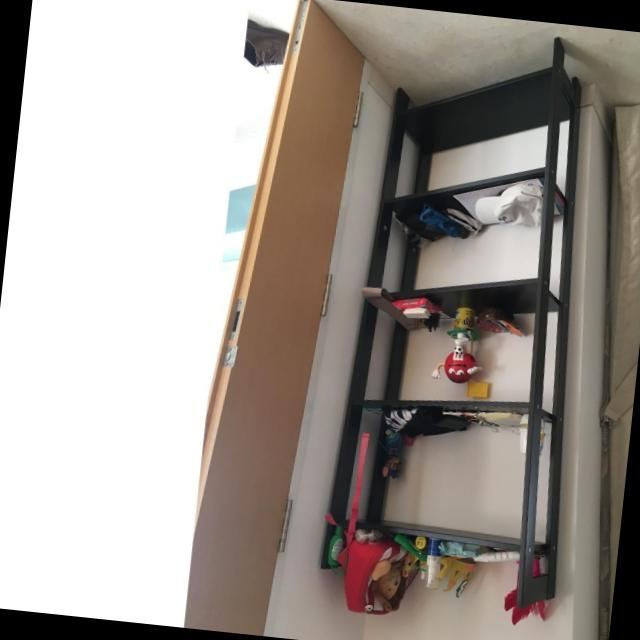Shelf: (314, 12, 618, 614)
